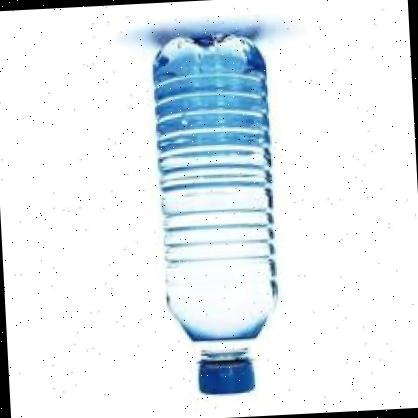bottle: (141, 28, 290, 404)
cap: (188, 348, 262, 400)
